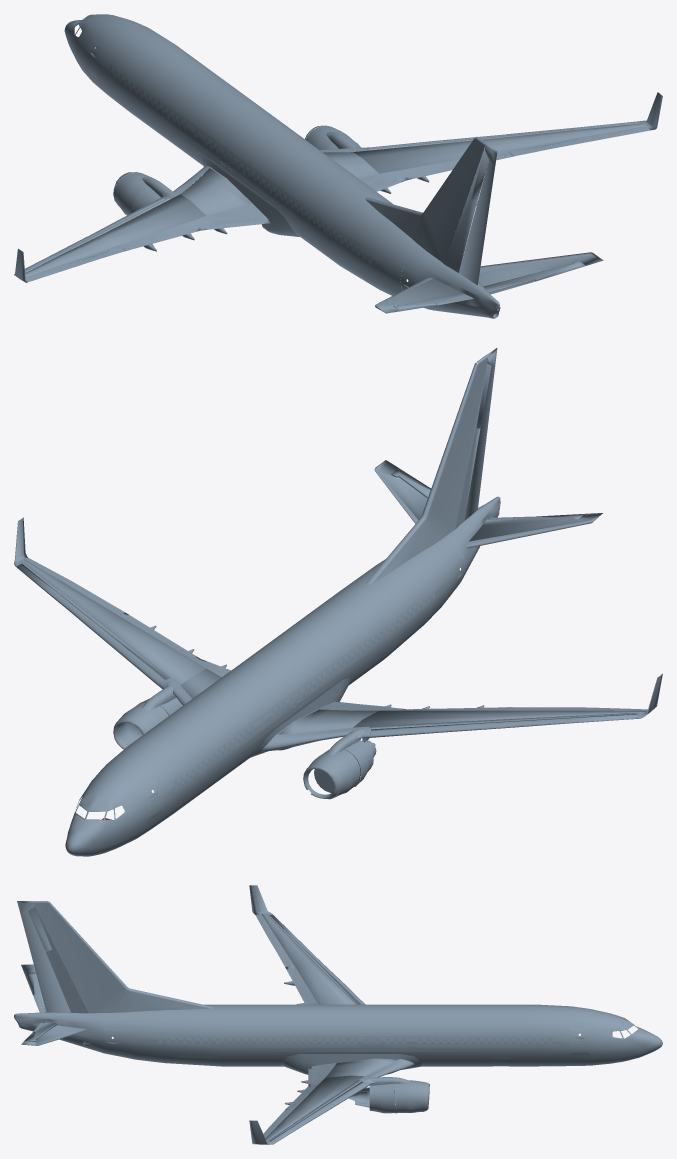
3 views of the same model, one above another, from view 1: azimuth 30°, elevation 25°; view 2: azimuth 150°, elevation 25°; view 3: azimuth 270°, elevation 25° (orthographic). The views are drawn at different scales.
Size of the model in its own units: 34.85 by 12.11 by 40.62.
